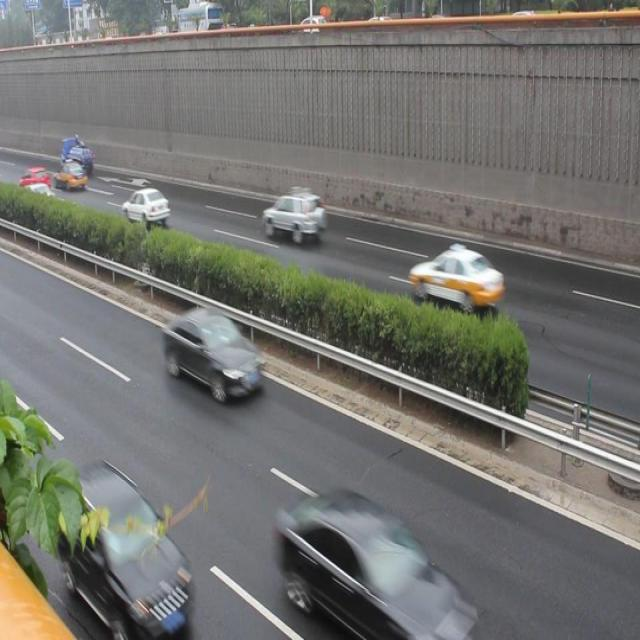car: (274, 481, 486, 640), (47, 458, 195, 640), (159, 303, 268, 408), (406, 238, 503, 320), (258, 190, 324, 247), (120, 180, 167, 230)
